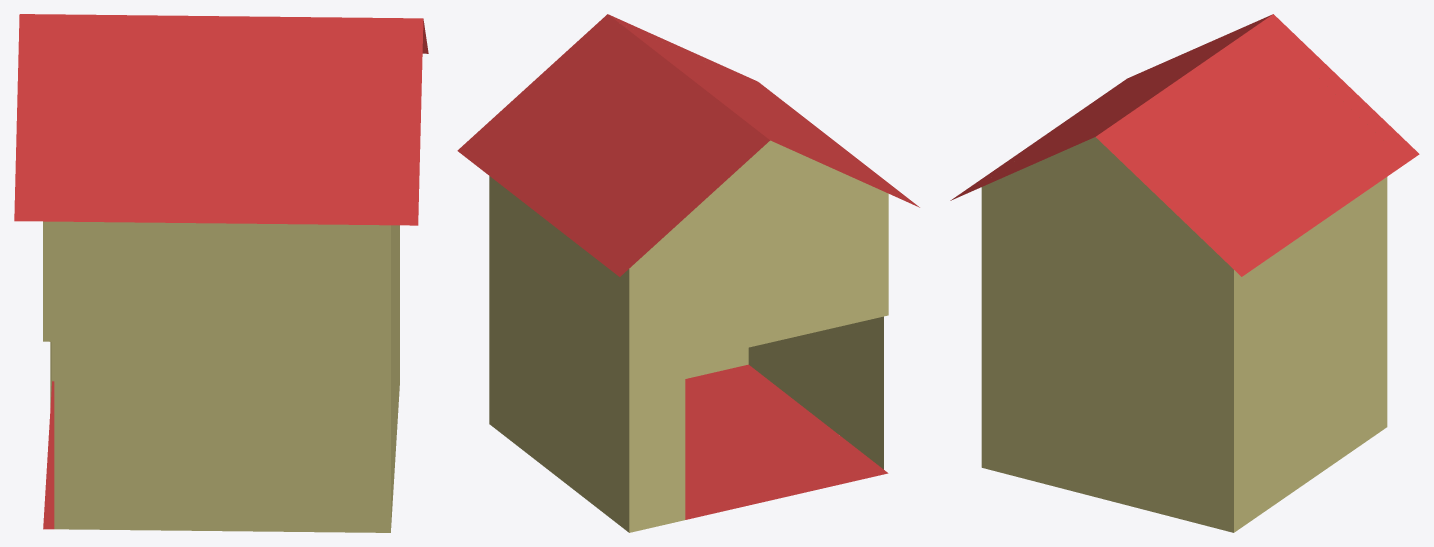
The picture shows the model from 3 angles, left to right: view 1: azimuth 30°, elevation 25°; view 2: azimuth 150°, elevation 25°; view 3: azimuth 270°, elevation 25°; orthographic projection. The views are drawn at different scales.
Visible parts, largest first — view 1: group_5, group_3, group_4, group_6; view 2: group_5, group_3, group_6, group_4; view 3: group_5, group_3, group_4.
Boxes of the visible parts, x1,y1,x2,y2 form: group_5: [43, 221, 399, 532]; group_3: [14, 14, 428, 225]; group_4: [14, 14, 423, 225]; group_6: [43, 381, 54, 529]; group_5: [489, 140, 888, 532]; group_3: [489, 14, 919, 249]; group_6: [685, 364, 888, 519]; group_4: [457, 14, 813, 276]; group_5: [981, 137, 1387, 532]; group_3: [952, 14, 1386, 261]; group_4: [950, 15, 1419, 276].
Size of the model in its own units: 14.86 by 14.88 by 12.98.
